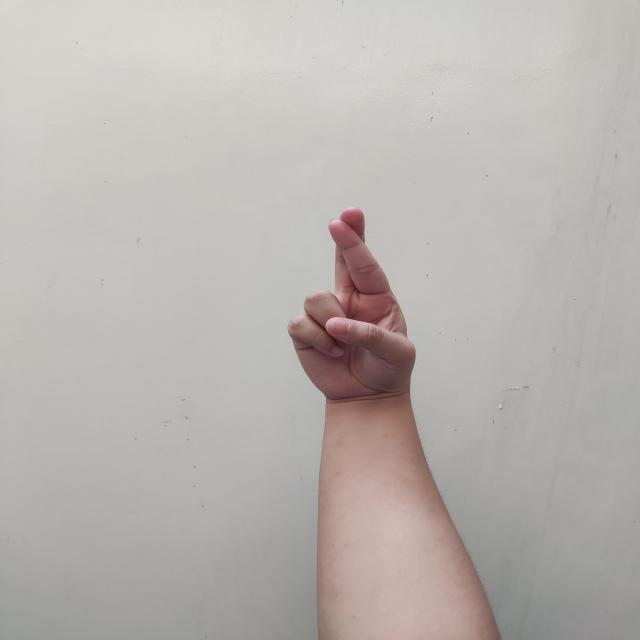R: (288, 206, 416, 400)
